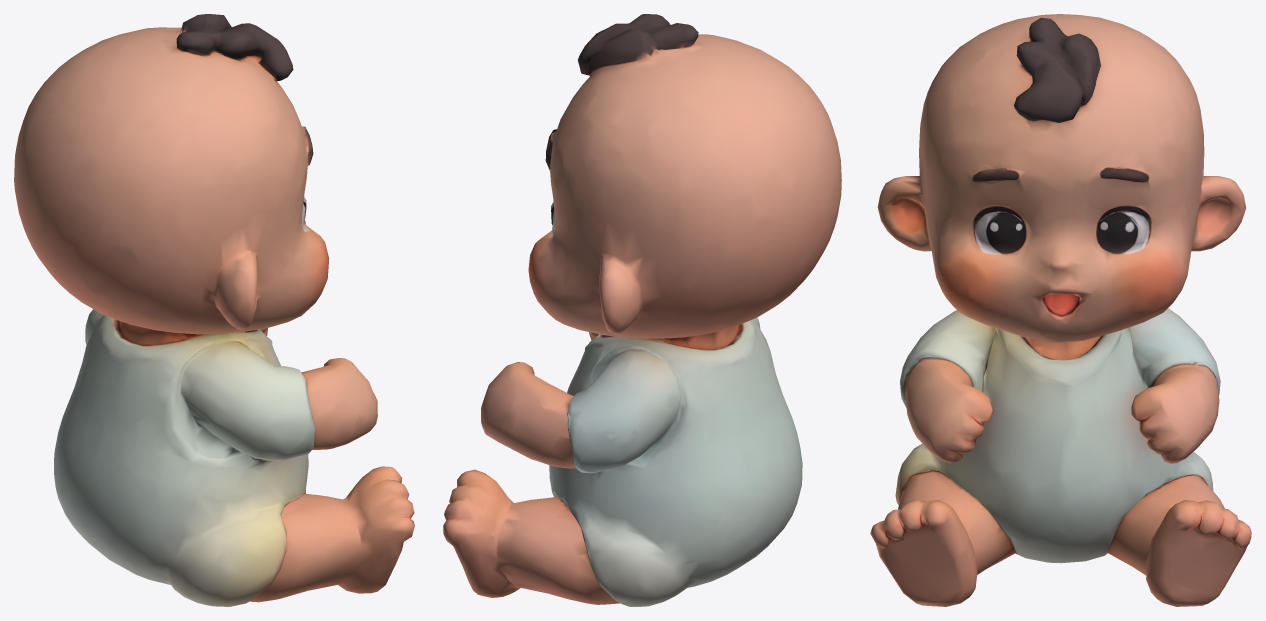
Rendered from baby_6months.glb.
3 renders of one model, left to right at view 1: azimuth 30°, elevation 25°; view 2: azimuth 150°, elevation 25°; view 3: azimuth 270°, elevation 25°, orthographic. The views are drawn at different scales.
Parts seen in each view (by area): view 1: node_f7e36207-45d1-47df-9ae0-461a72401667; view 2: node_f7e36207-45d1-47df-9ae0-461a72401667; view 3: node_f7e36207-45d1-47df-9ae0-461a72401667.
Boxes of the visible parts, box(x1,y1,x2,y2) form: node_f7e36207-45d1-47df-9ae0-461a72401667: box(14, 14, 414, 606); node_f7e36207-45d1-47df-9ae0-461a72401667: box(443, 14, 841, 606); node_f7e36207-45d1-47df-9ae0-461a72401667: box(870, 14, 1251, 606).
Size of the model in its own units: 0.5751 by 1 by 0.6513.
1 material, 1 textured.
